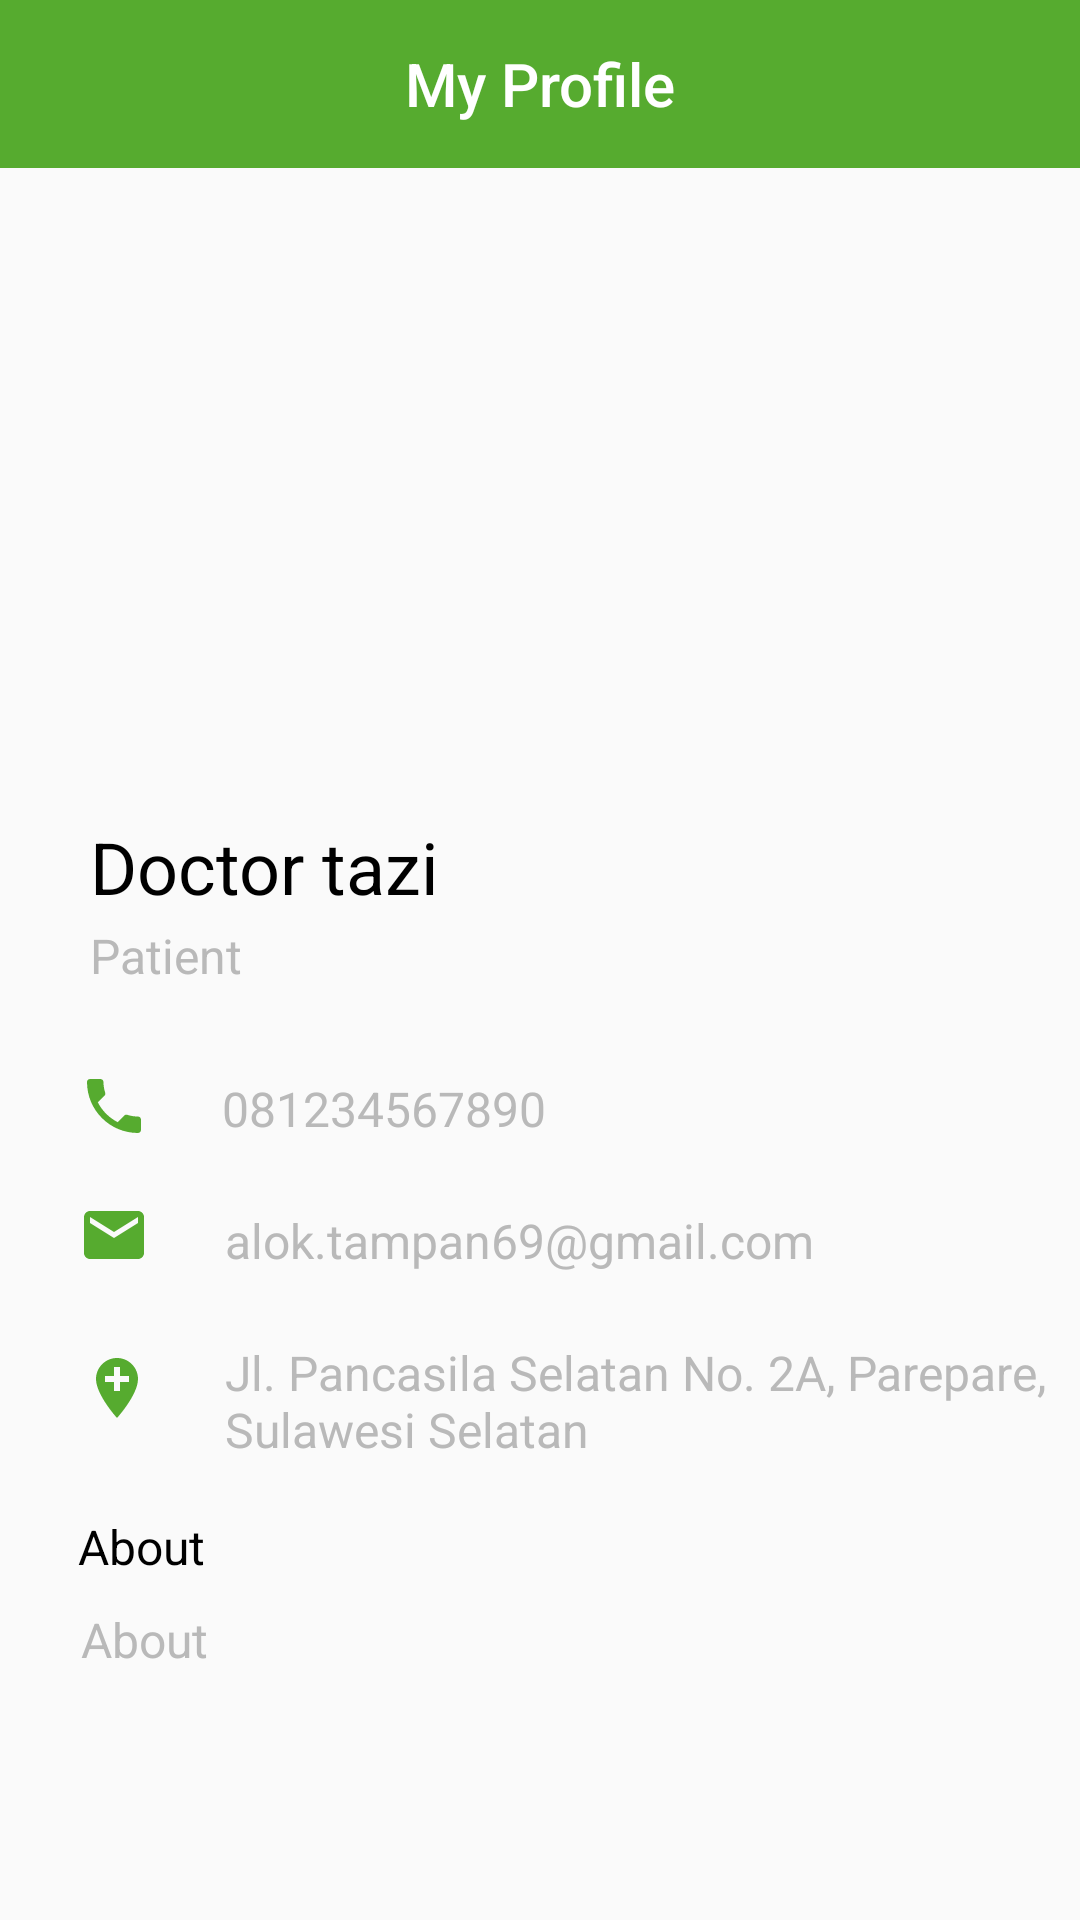

Screen size 1080w x 1920h. Icon name, then its center in pixels as [x,y]:
add location: [117,1388]
call: [114,1106]
email: [114,1235]
